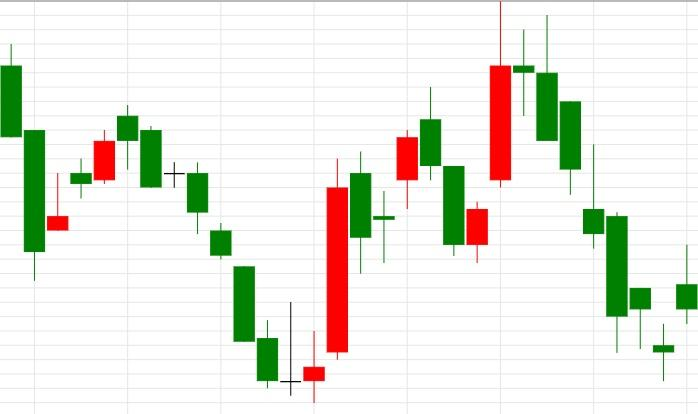evening_star_fall: (443, 0, 559, 263)
inverse_hammer_rise: (0, 44, 69, 281)
morning_star_rise: (116, 105, 326, 404)
